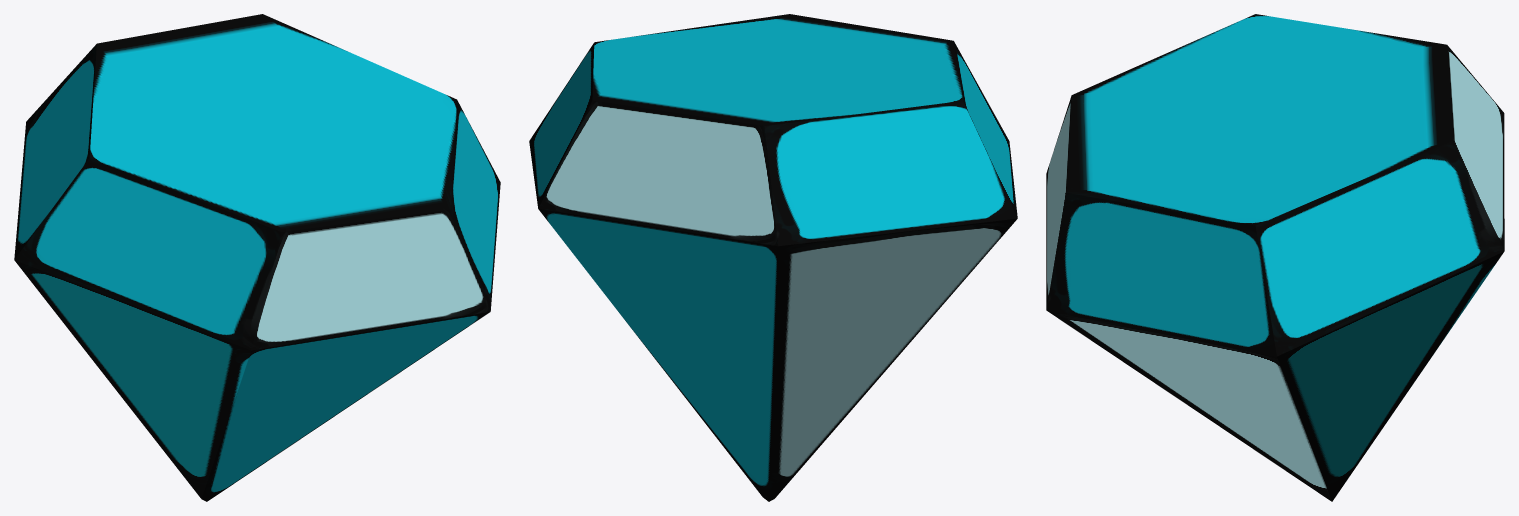
The model's file is houseki.fbx.
The picture shows the model from 3 angles, left to right: view 1: azimuth 30°, elevation 25°; view 2: azimuth 150°, elevation 25°; view 3: azimuth 270°, elevation 25°; orthographic projection.
Visible parts, largest first — view 1: Plane; view 2: Plane; view 3: Plane.
Part boxes in pixels (box(x1,y1,x2,y2)): Plane: box(14, 14, 500, 501); Plane: box(529, 14, 1017, 501); Plane: box(1046, 14, 1504, 501).
Size of the model in its own units: 78.94 by 66.54 by 64.04.
